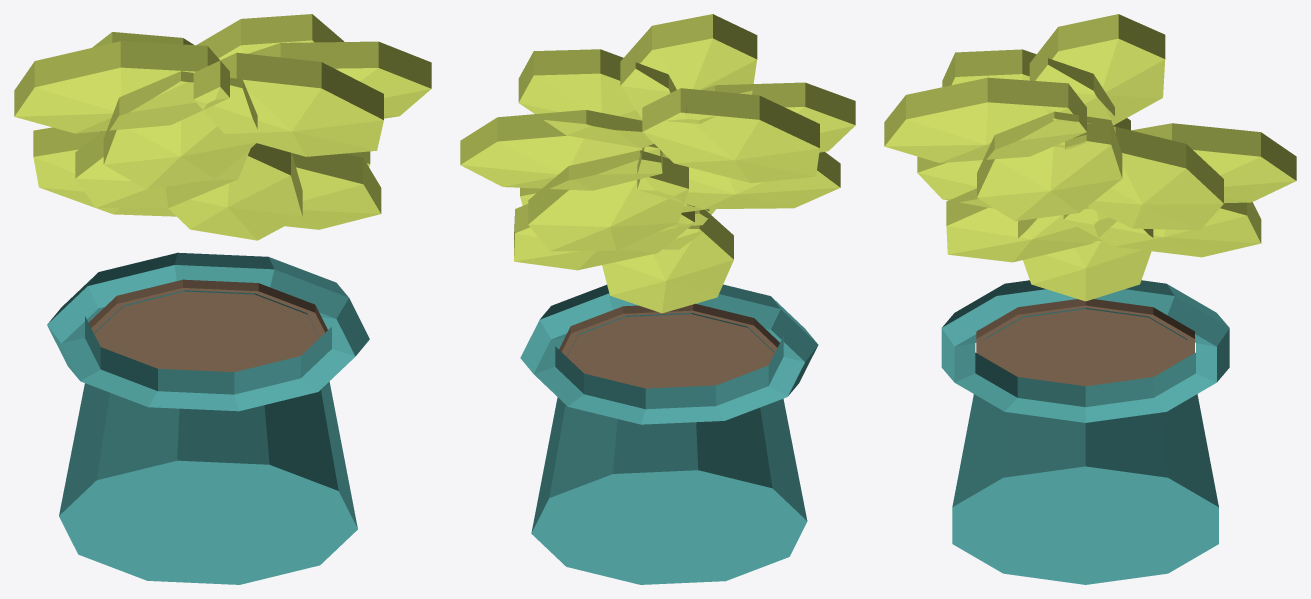
Rendered from plant_lime.glb.
The picture shows the model from 3 angles, left to right: view 1: azimuth 30°, elevation 25°; view 2: azimuth 150°, elevation 25°; view 3: azimuth 270°, elevation 25°; orthographic projection. The views are drawn at different scales.
Visible parts, largest first — view 1: plant_lime; view 2: plant_lime; view 3: plant_lime.
Boxes of the visible parts, <box> form: plant_lime: <box>14,14,431,584</box>; plant_lime: <box>460,14,855,584</box>; plant_lime: <box>884,14,1296,584</box>.
Size of the model in its own units: 0.6941 by 0.8727 by 0.7345.
